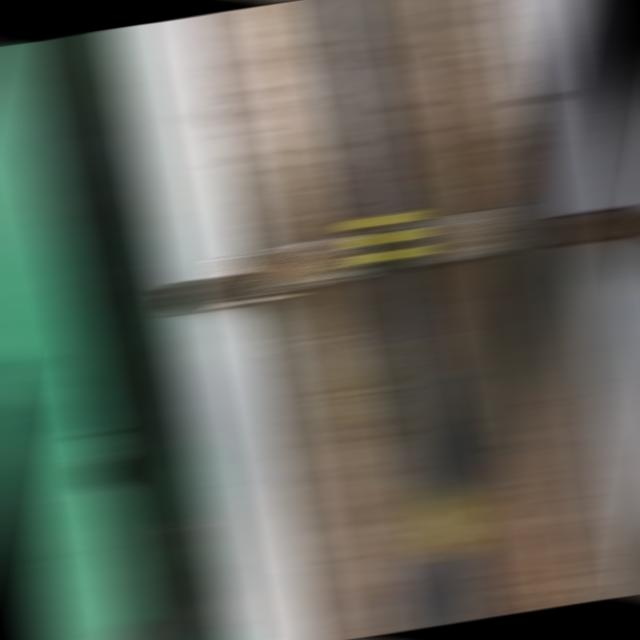yellow: (352, 211, 426, 264)
